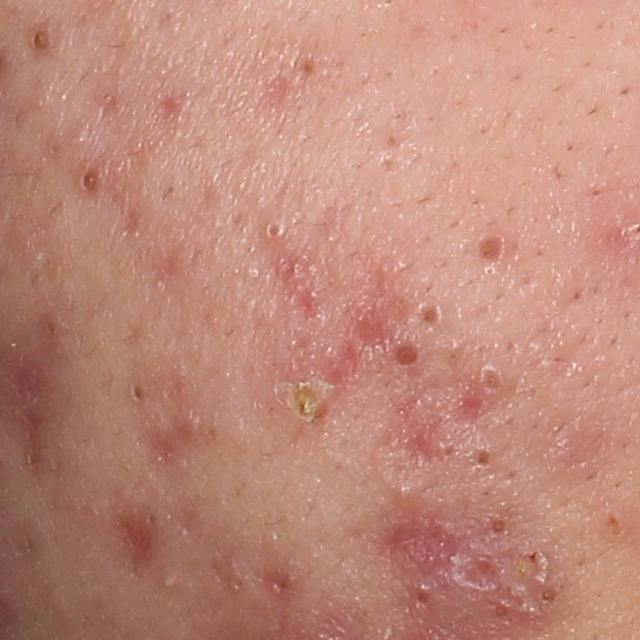atrophic_scar: (379, 377, 447, 488), (443, 385, 488, 431), (157, 86, 177, 128), (121, 206, 143, 235)
comedo: (473, 228, 513, 265), (471, 359, 508, 399), (76, 160, 106, 199), (261, 214, 292, 244), (413, 299, 446, 327), (389, 341, 421, 368), (28, 25, 54, 54), (473, 445, 497, 472), (535, 583, 560, 608), (488, 513, 511, 538), (228, 575, 246, 595), (128, 382, 145, 403)
